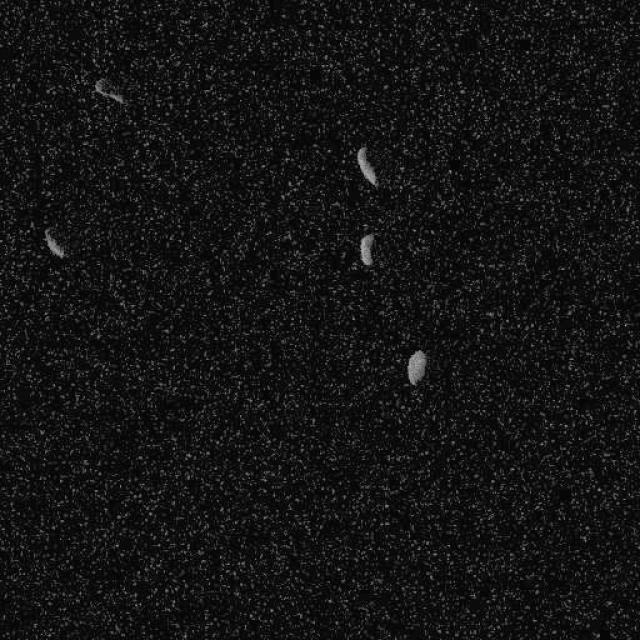D2: (355, 145, 379, 187), (93, 76, 125, 105), (42, 226, 66, 260), (405, 349, 427, 385), (357, 232, 375, 266)
